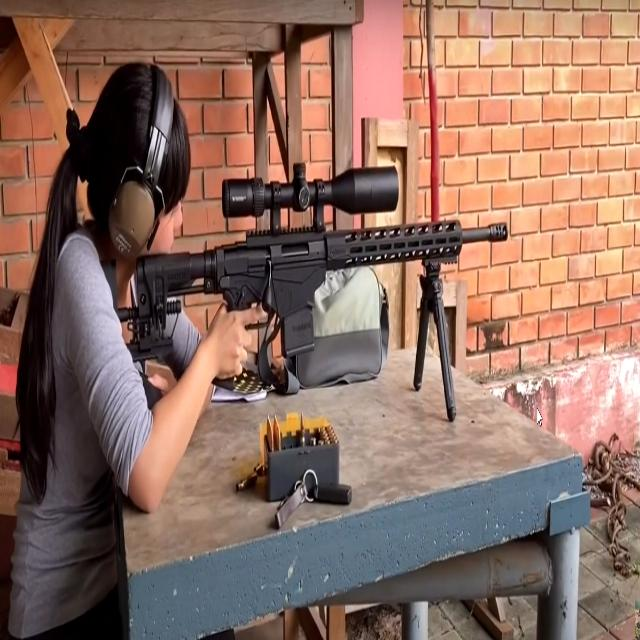rifle: (112, 156, 511, 435)
